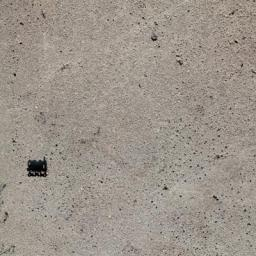FOD: (23, 154, 50, 184)
